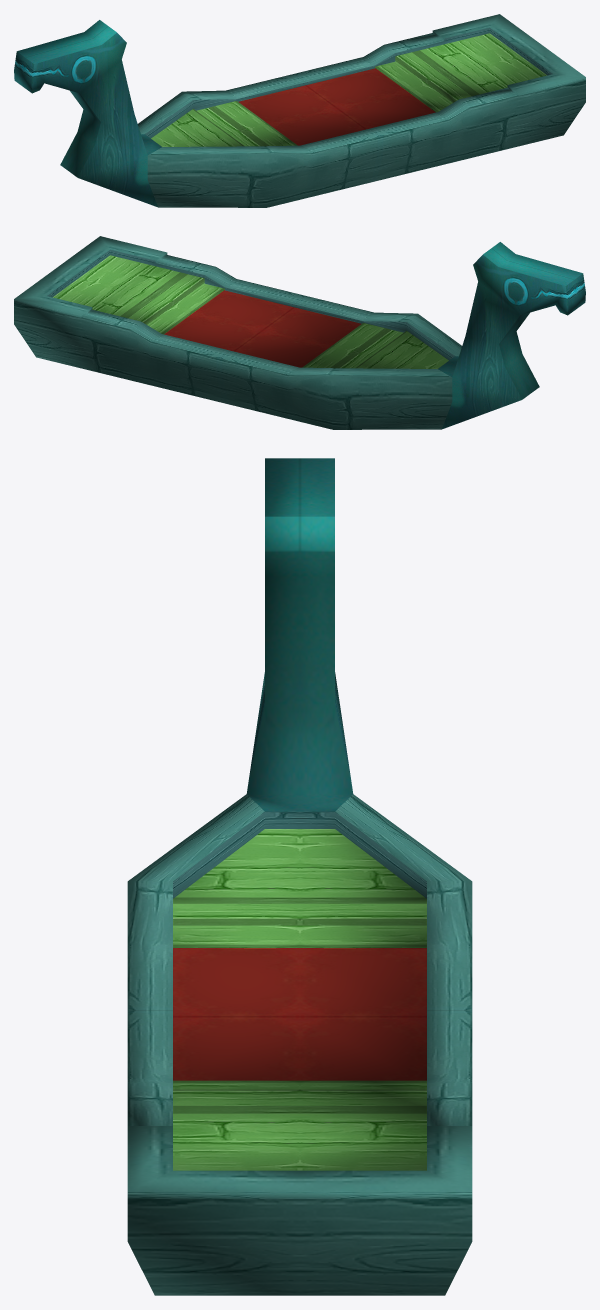
The model's file is chuan2.FBX.
3 views of the same model, one above another, from view 1: azimuth 30°, elevation 25°; view 2: azimuth 150°, elevation 25°; view 3: azimuth 270°, elevation 25° (orthographic). The views are drawn at different scales.
Parts seen in each view (by area): view 1: Object026; view 2: Object026; view 3: Object026.
Boxes of the visible parts, box(x1,y1,x2,y2) form: Object026: box(14, 14, 585, 207); Object026: box(14, 236, 585, 429); Object026: box(127, 458, 472, 1295).
Bounding box in the file's own units: 102937 × 34985 × 29533.
